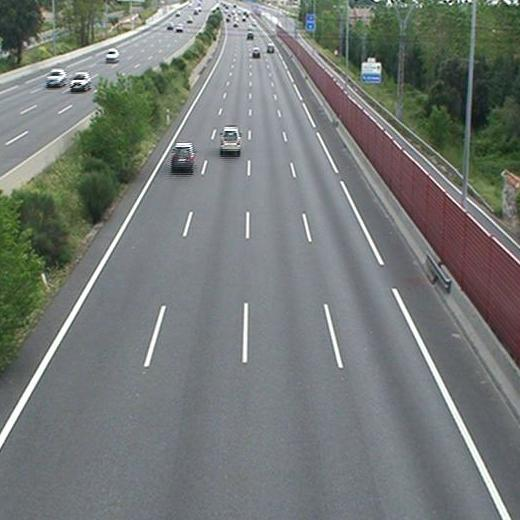car: (171, 143, 193, 168), (219, 127, 241, 150), (251, 47, 261, 58), (266, 42, 274, 52)
